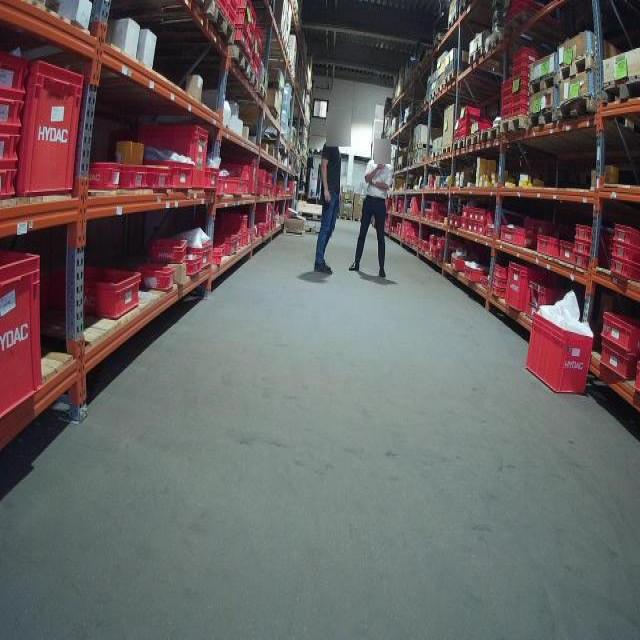pallet: (557, 51, 596, 82), (602, 77, 640, 106), (556, 95, 598, 121), (504, 10, 534, 38), (215, 5, 234, 48), (528, 72, 557, 96), (527, 106, 556, 129), (231, 44, 250, 79), (501, 113, 526, 137), (194, 0, 216, 23), (480, 125, 500, 144), (467, 46, 485, 66), (248, 66, 260, 95), (444, 70, 457, 89), (447, 12, 459, 31), (465, 133, 480, 148), (453, 137, 466, 152), (437, 81, 446, 97), (442, 143, 452, 154), (430, 90, 437, 101)
small_load_carrier: (18, 62, 83, 199), (2, 248, 48, 422), (52, 259, 142, 328), (522, 312, 588, 395), (139, 124, 206, 190), (600, 308, 637, 351), (596, 340, 631, 383), (503, 261, 529, 314), (2, 49, 31, 91), (146, 237, 194, 262), (134, 265, 173, 295), (525, 279, 566, 307), (2, 93, 32, 131), (89, 160, 119, 198), (141, 160, 170, 196), (2, 130, 26, 171), (216, 216, 246, 248), (118, 163, 146, 197), (607, 260, 640, 285), (242, 160, 260, 200), (163, 160, 189, 187), (501, 227, 532, 249), (612, 224, 637, 251), (184, 244, 210, 269), (3, 168, 21, 204), (222, 176, 247, 200), (179, 257, 204, 281), (460, 263, 488, 284), (510, 48, 544, 63), (534, 232, 555, 256), (612, 246, 639, 264), (214, 239, 238, 259), (574, 224, 598, 243), (467, 120, 492, 135), (511, 59, 544, 70), (562, 241, 576, 266), (576, 255, 594, 273), (450, 253, 469, 270), (496, 261, 510, 282), (576, 242, 598, 255), (212, 248, 224, 271), (204, 168, 217, 189), (632, 362, 640, 396), (511, 70, 538, 80), (511, 80, 537, 90), (510, 97, 533, 108), (487, 211, 502, 227), (476, 225, 491, 239), (452, 125, 468, 138), (255, 224, 269, 237), (232, 233, 241, 253), (492, 289, 507, 301), (462, 110, 480, 120), (476, 211, 492, 222), (501, 90, 516, 101), (500, 109, 515, 120), (511, 107, 529, 116), (492, 276, 508, 286), (511, 90, 533, 97), (260, 183, 268, 201), (500, 80, 516, 89), (451, 120, 468, 126), (261, 169, 268, 183), (501, 101, 515, 108), (486, 230, 498, 237), (452, 138, 470, 141)
